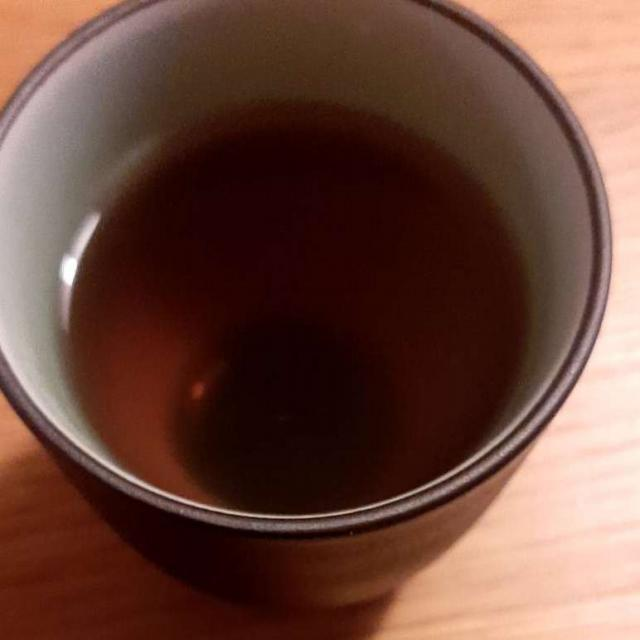tea: (70, 108, 544, 502)
